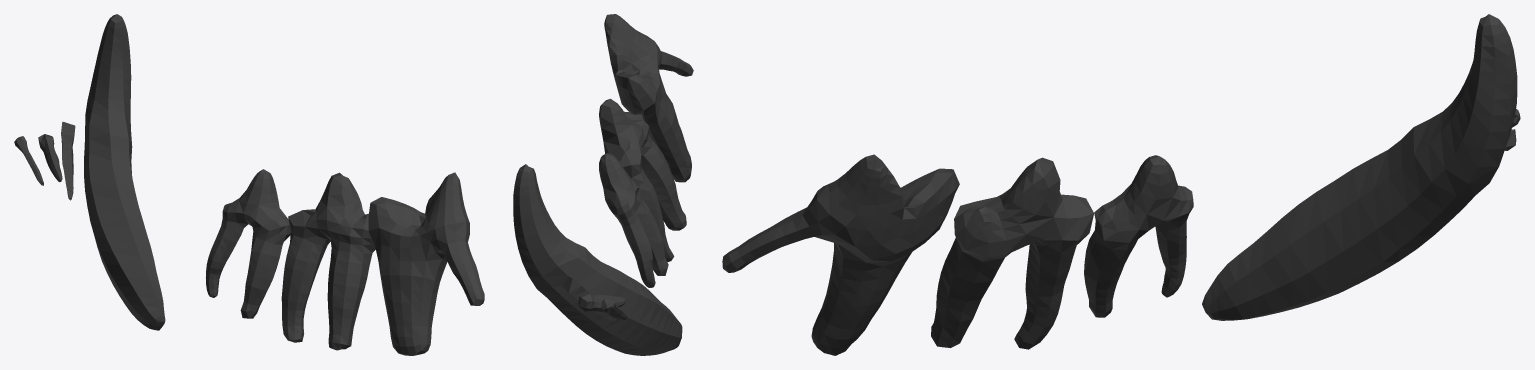
File: Teeth_bottom.glb
3 views of the same model, side by side, from view 1: azimuth 30°, elevation 25°; view 2: azimuth 150°, elevation 25°; view 3: azimuth 270°, elevation 25° (orthographic). The views are drawn at different scales.
Visible parts, largest first — view 1: Teeth_bottom; view 2: Teeth_bottom; view 3: Teeth_bottom.
Boxes of the visible parts, bbox=[...] form: Teeth_bottom: bbox=[14, 14, 484, 355]; Teeth_bottom: bbox=[513, 14, 693, 355]; Teeth_bottom: bbox=[722, 14, 1520, 355].
Bounding box in the file's own units: 0.1632 × 0.1631 × 0.3417.
Materials: 1 (1 with a texture image).
